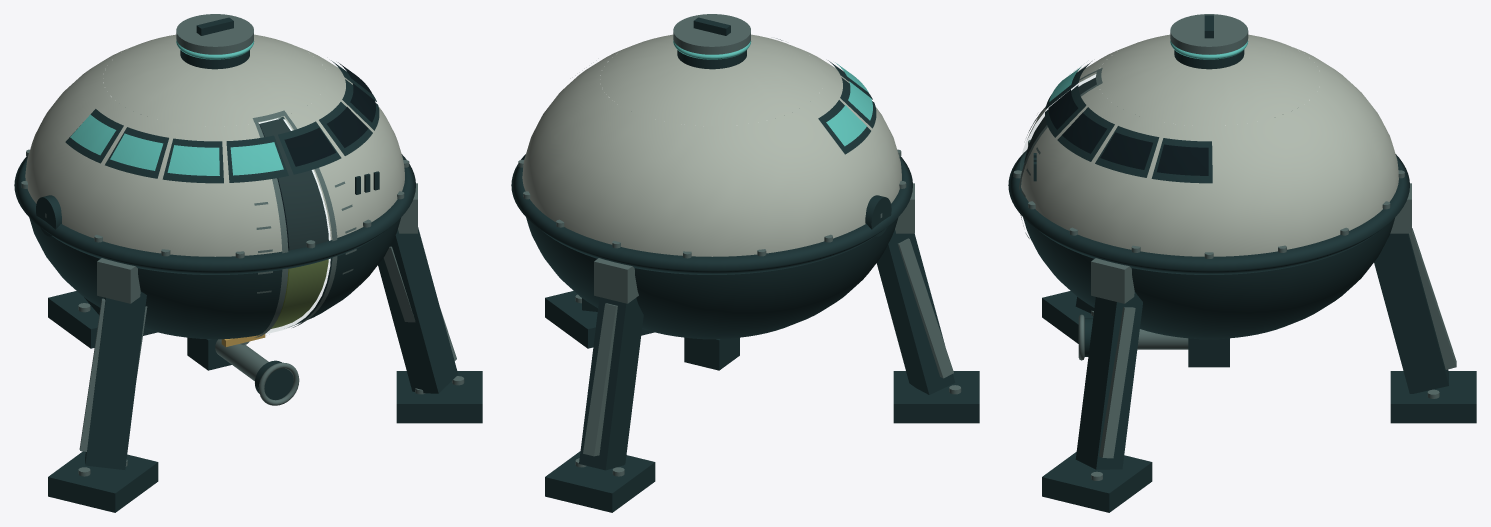
The model's file is yushi045_container_d0_lod0.meshopt.glb.
3 views of the same model, side by side, from view 1: azimuth 30°, elevation 25°; view 2: azimuth 150°, elevation 25°; view 3: azimuth 270°, elevation 25° (orthographic).
Parts seen in each view (by area): view 1: YUSHI_BODY, YUSHI_GLASS; view 2: YUSHI_BODY; view 3: YUSHI_BODY, YUSHI_GLASS.
Boxes of the visible parts, box(x1,y1,x2,y2) form: YUSHI_BODY: box(14, 14, 482, 512); YUSHI_GLASS: box(260, 117, 329, 333); YUSHI_BODY: box(511, 14, 979, 512); YUSHI_BODY: box(1008, 14, 1476, 512); YUSHI_GLASS: box(1020, 74, 1095, 175).
Size of the model in its own units: 3.74 by 3.15 by 3.49.
